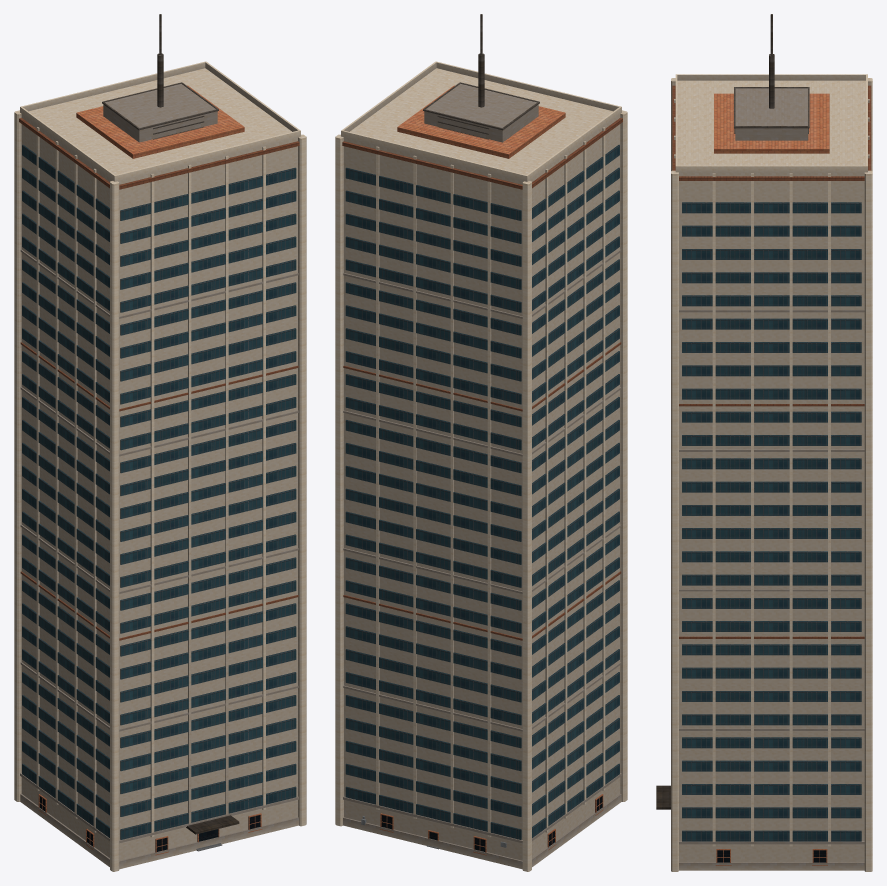
File: washington-court-tower_lod0.gltf
The picture shows the model from 3 angles, left to right: view 1: azimuth 30°, elevation 25°; view 2: azimuth 150°, elevation 25°; view 3: azimuth 270°, elevation 25°; orthographic projection.
Parts seen in each view (by area): view 1: washington-court-tower_main, washington-court-tower_fen_07-glass-curtain-blue_0, washington-court-tower__v4_stone_detail, washington-court-tower__crown_step_1, washington-court-tower__cornice, washington-court-tower__parapet_front, washington-court-tower__v4_metal_detail, washington-court-tower__parapet_back, washington-court-tower__string_course_2, washington-court-tower__string_course_1, washington-court-tower__parapet_left, washington-court-tower__parapet_right (+1 smaller); view 2: washington-court-tower_main, washington-court-tower_fen_07-glass-curtain-blue_0, washington-court-tower__v4_stone_detail, washington-court-tower__crown_step_1, washington-court-tower__cornice, washington-court-tower__parapet_back, washington-court-tower__v4_metal_detail, washington-court-tower__parapet_front, washington-court-tower__string_course_2, washington-court-tower__string_course_1, washington-court-tower__parapet_left, washington-court-tower__parapet_right; view 3: washington-court-tower_main, washington-court-tower_fen_07-glass-curtain-blue_0, washington-court-tower__v4_stone_detail, washington-court-tower__crown_step_1, washington-court-tower__cornice, washington-court-tower__parapet_right, washington-court-tower__parapet_left, washington-court-tower__v4_metal_detail, washington-court-tower__string_course_1, washington-court-tower__string_course_2.
Boxes of the visible parts, box(x1,y1,x2,y2) form: washington-court-tower_main: box(21, 68, 297, 860); washington-court-tower_fen_07-glass-curtain-blue_0: box(22, 144, 296, 839); washington-court-tower__v4_stone_detail: box(14, 68, 306, 871); washington-court-tower__crown_step_1: box(76, 85, 244, 158); washington-court-tower__cornice: box(19, 118, 299, 189); washington-court-tower__parapet_front: box(114, 130, 300, 181); washington-court-tower__v4_metal_detail: box(102, 14, 218, 139); washington-court-tower__parapet_back: box(20, 61, 206, 112); washington-court-tower__string_course_2: box(20, 342, 298, 411); washington-court-tower__string_course_1: box(20, 571, 298, 640); washington-court-tower__parapet_left: box(21, 107, 114, 180); washington-court-tower__parapet_right: box(205, 62, 299, 131); washington-court-tower_main: box(344, 68, 620, 860); washington-court-tower_fen_07-glass-curtain-blue_0: box(345, 144, 619, 839); washington-court-tower__v4_stone_detail: box(335, 83, 627, 871); washington-court-tower__crown_step_1: box(397, 85, 565, 158); washington-court-tower__cornice: box(342, 118, 622, 189); washington-court-tower__parapet_back: box(341, 130, 527, 181); washington-court-tower__v4_metal_detail: box(423, 14, 539, 139); washington-court-tower__parapet_front: box(435, 61, 621, 112); washington-court-tower__string_course_2: box(343, 342, 621, 411); washington-court-tower__string_course_1: box(343, 571, 621, 640); washington-court-tower__parapet_left: box(527, 107, 620, 180); washington-court-tower__parapet_right: box(342, 62, 436, 131); washington-court-tower_main: box(677, 80, 865, 862); washington-court-tower_fen_07-glass-curtain-blue_0: box(682, 202, 861, 841); washington-court-tower__v4_stone_detail: box(671, 78, 872, 871); washington-court-tower__crown_step_1: box(714, 93, 829, 153); washington-court-tower__cornice: box(672, 85, 871, 180); washington-court-tower__parapet_right: box(677, 165, 865, 172); washington-court-tower__parapet_left: box(677, 74, 865, 80); washington-court-tower__v4_metal_detail: box(734, 14, 809, 133); washington-court-tower__string_course_1: box(679, 636, 864, 638); washington-court-tower__string_course_2: box(679, 404, 864, 406).
Bounding box in the file's own units: 35.44 × 139 × 33.72.
